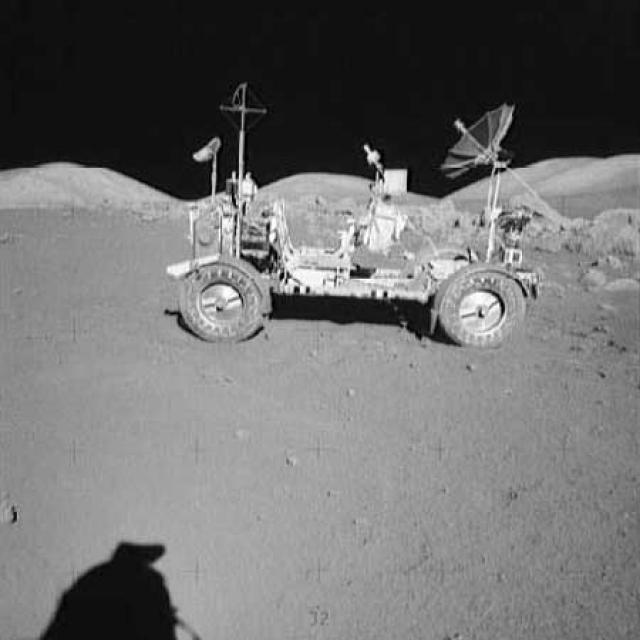artifact: (166, 88, 552, 353)
rock: (500, 190, 587, 256), (588, 201, 639, 258), (581, 266, 639, 298)
